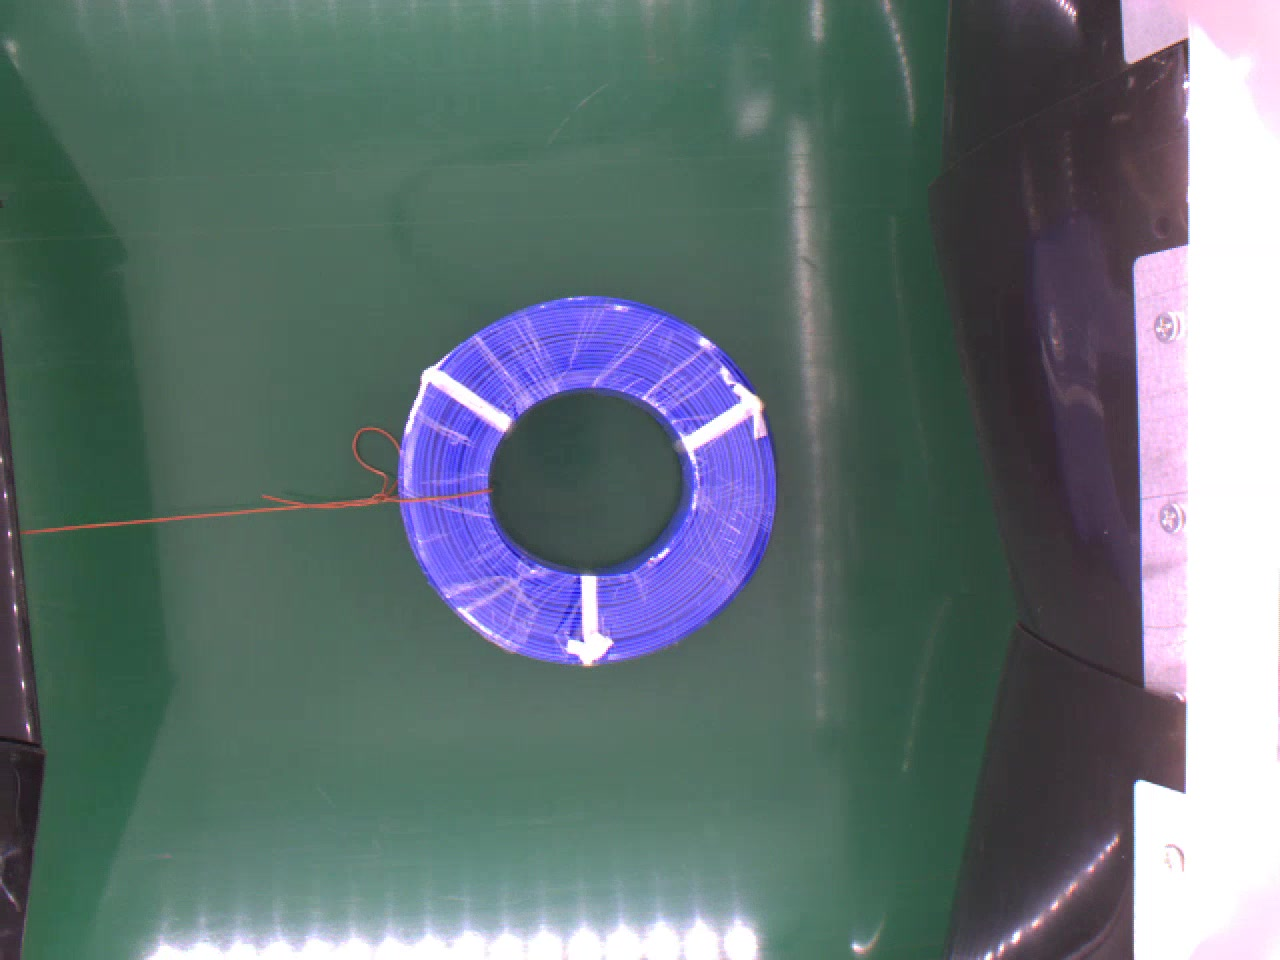blue: (392, 291, 788, 672)
